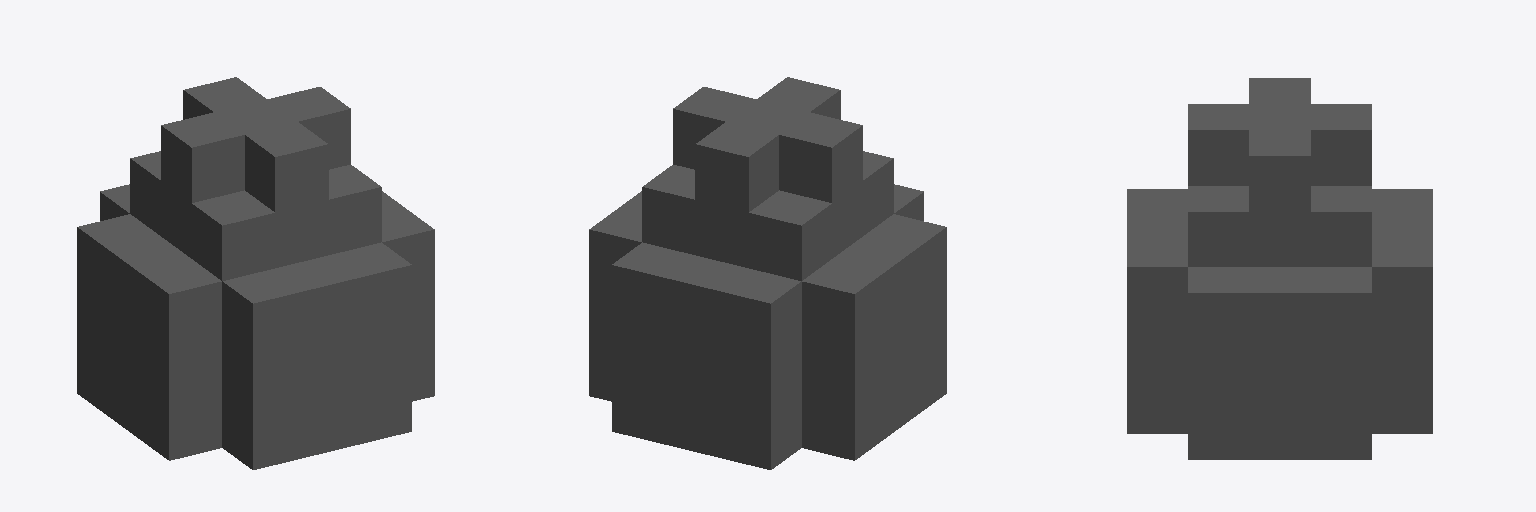
The picture shows the model from 3 angles: view 1: azimuth 30°, elevation 25°; view 2: azimuth 150°, elevation 25°; view 3: azimuth 270°, elevation 25°; orthographic projection.
Parts seen in each view (by area): view 1: object 1; view 2: object 1; view 3: object 1.
Part boxes in pixels (left/top/right/bottom): object 1: left=77, top=77, right=434, bottom=469; object 1: left=589, top=77, right=946, bottom=469; object 1: left=1127, top=78, right=1432, bottom=459.
Size of the model in its own units: 0.5 by 0.5 by 0.5.
Materials: 1 (1 with a texture image).